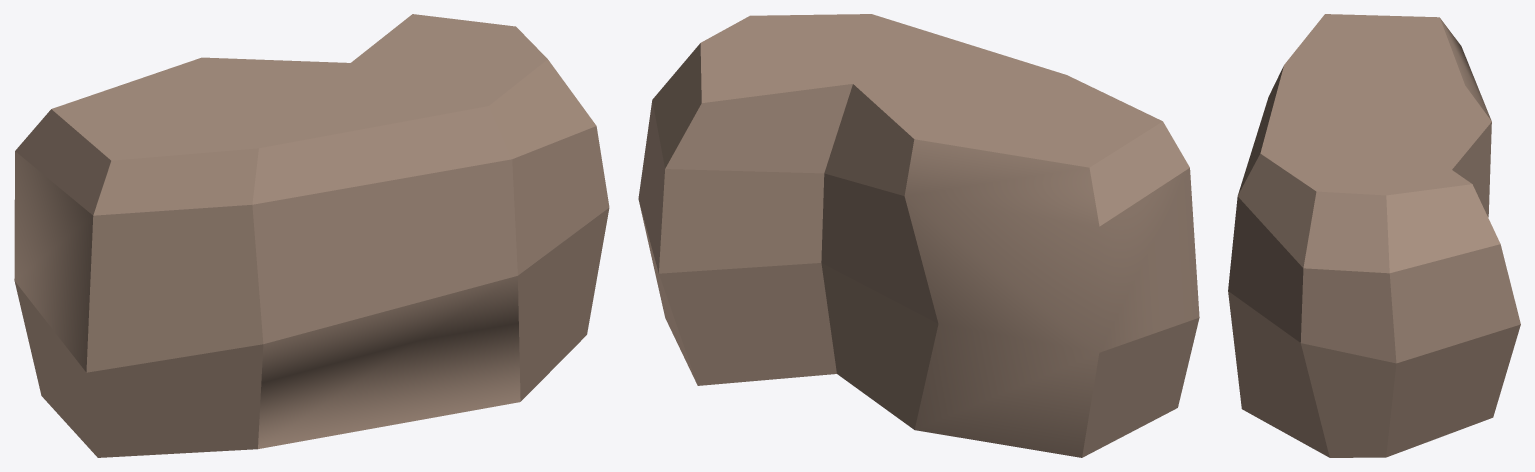
File: Stackable_Rock_2_1_1_Colored_v02.fbx
The picture shows the model from 3 angles, left to right: view 1: azimuth 30°, elevation 25°; view 2: azimuth 150°, elevation 25°; view 3: azimuth 270°, elevation 25°; orthographic projection. The views are drawn at different scales.
Parts seen in each view (by area): view 1: Stackable_Rock_2_2_1_v02; view 2: Stackable_Rock_2_2_1_v02; view 3: Stackable_Rock_2_2_1_v02.
Part boxes in pixels (x1=…): Stackable_Rock_2_2_1_v02: x1=14, y1=14, x2=609, y2=457; Stackable_Rock_2_2_1_v02: x1=638, y1=14, x2=1199, y2=457; Stackable_Rock_2_2_1_v02: x1=1228, y1=14, x2=1520, y2=457.
Size of the model in its own units: 188 by 99.07 by 106.
